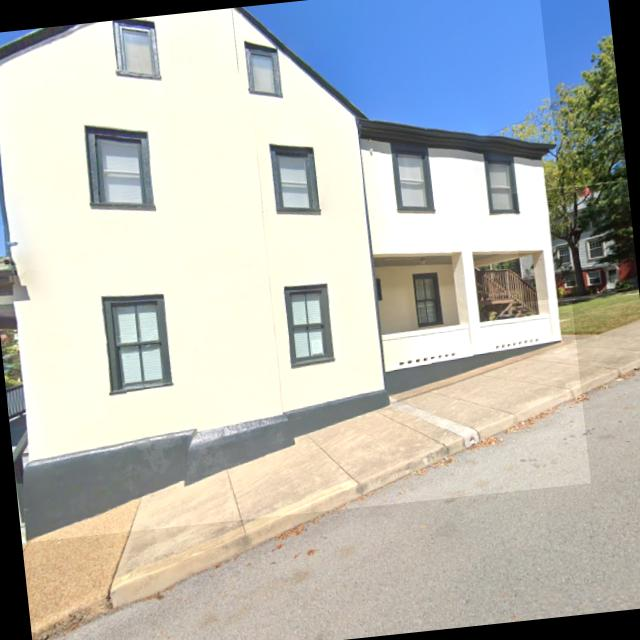House: (0, 0, 590, 542), (512, 180, 639, 306), (512, 181, 638, 302)
